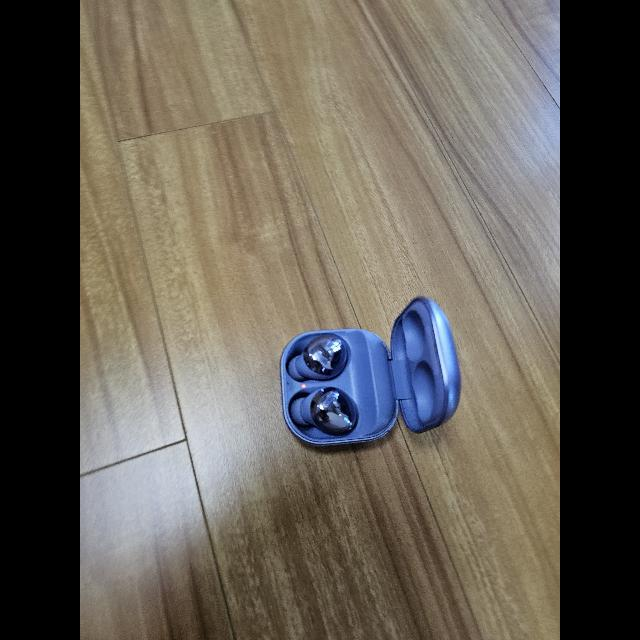buds-pro: (280, 295, 464, 453)
